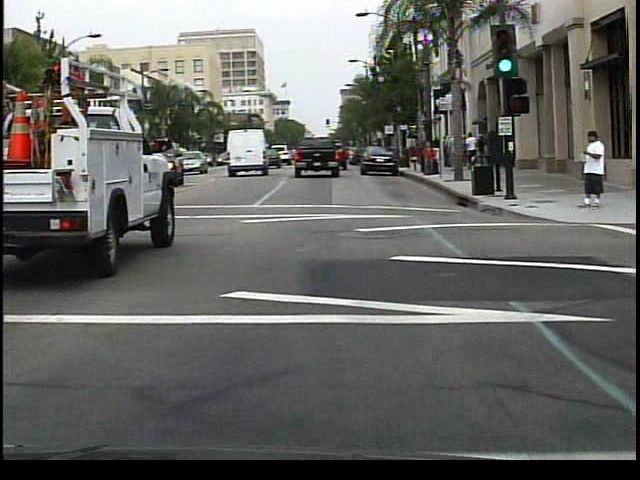person: (577, 133, 611, 215), (417, 139, 437, 179)
